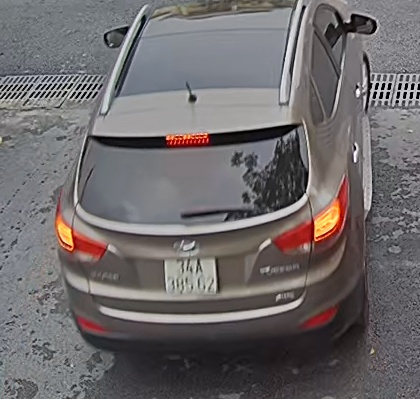vehicle plate: (158, 254, 230, 300)
